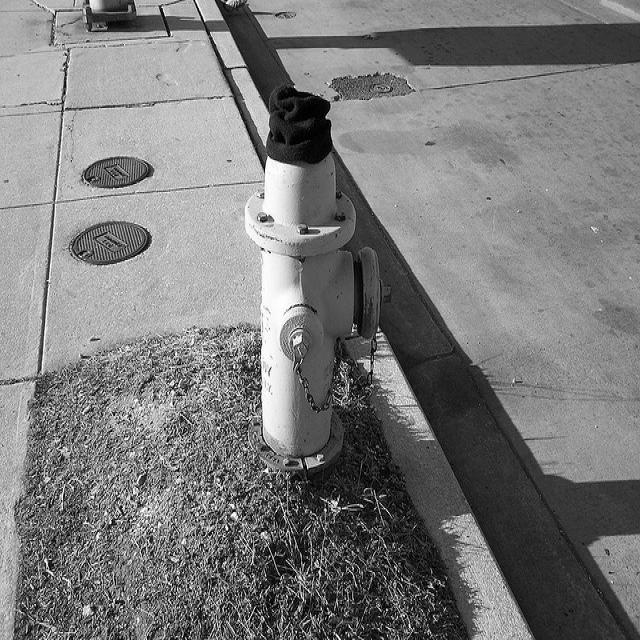fire_hydrant: (238, 68, 393, 488)
